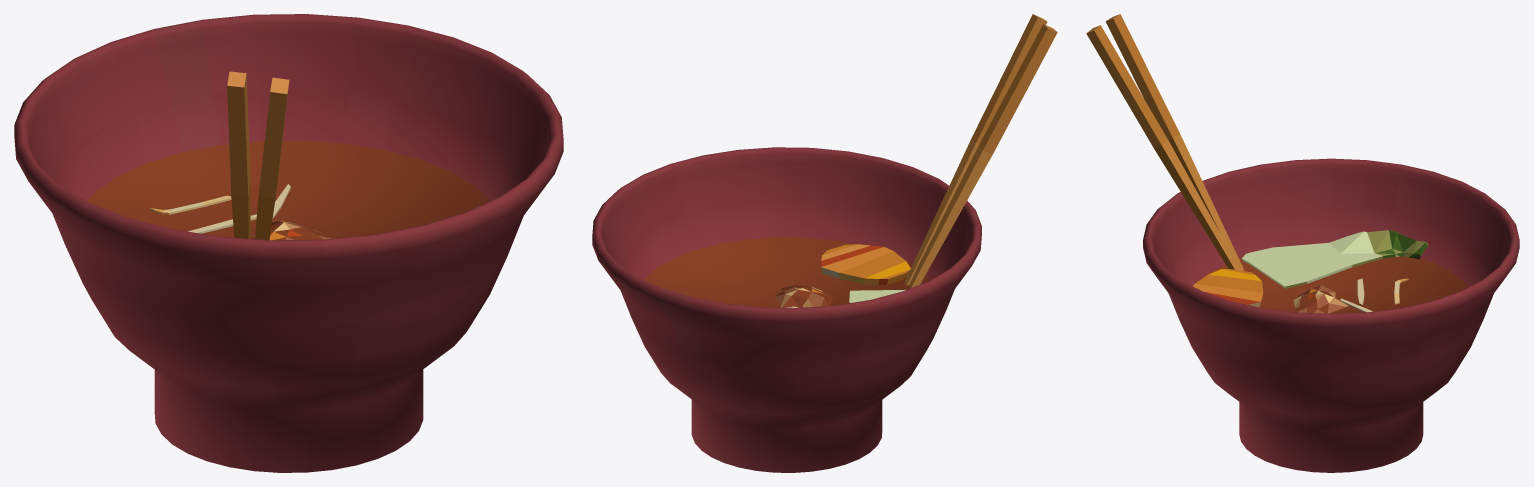
3 renders of one model, left to right at view 1: azimuth 30°, elevation 25°; view 2: azimuth 150°, elevation 25°; view 3: azimuth 270°, elevation 25°, orthographic. The views are drawn at different scales.
Visible parts, largest first — view 1: ramen.001; view 2: ramen.001; view 3: ramen.001.
Part boxes in pixels (x1=…): ramen.001: x1=14, y1=14, x2=563, y2=472; ramen.001: x1=592, y1=14, x2=1057, y2=472; ramen.001: x1=1086, y1=14, x2=1519, y2=472.
Bounding box in the file's own units: 0.1958 × 0.2 × 0.2253.
